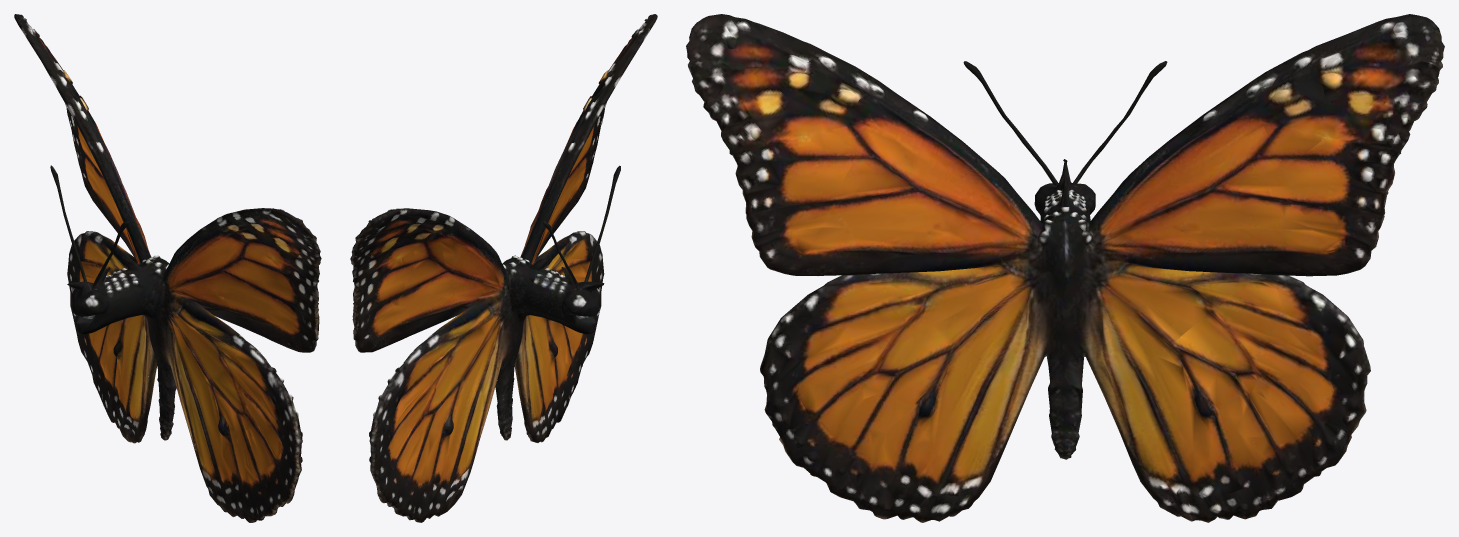
Rendered from butterfly.glb.
3 views of the same model, side by side, from view 1: azimuth 30°, elevation 25°; view 2: azimuth 150°, elevation 25°; view 3: azimuth 270°, elevation 25° (orthographic). The views are drawn at different scales.
Parts seen in each view (by area): view 1: tripo_node_61b25177-bd49-4d0e-a443-21c4ad5efef0; view 2: tripo_node_61b25177-bd49-4d0e-a443-21c4ad5efef0; view 3: tripo_node_61b25177-bd49-4d0e-a443-21c4ad5efef0.
Boxes of the visible parts, bbox=[...] form: tripo_node_61b25177-bd49-4d0e-a443-21c4ad5efef0: bbox=[14, 14, 321, 522]; tripo_node_61b25177-bd49-4d0e-a443-21c4ad5efef0: bbox=[350, 14, 657, 522]; tripo_node_61b25177-bd49-4d0e-a443-21c4ad5efef0: bbox=[686, 14, 1444, 522].
Size of the model in its own units: 0.2685 by 0.6964 by 0.9799.
Materials: 1 (1 with a texture image).
